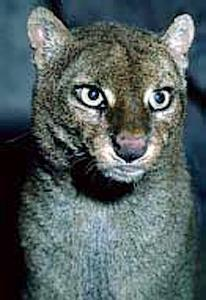Jaguarundi: (17, 3, 200, 291)
